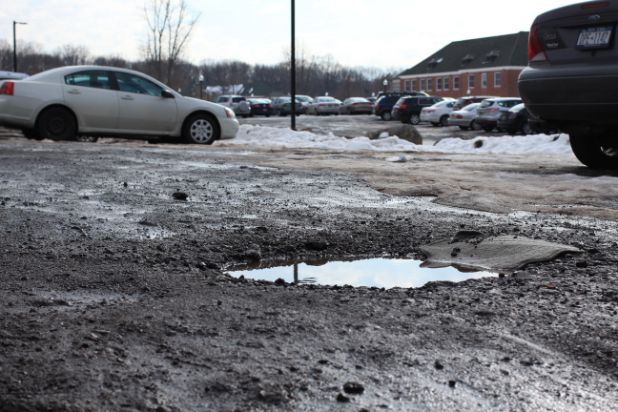pothole: (211, 245, 504, 290)
